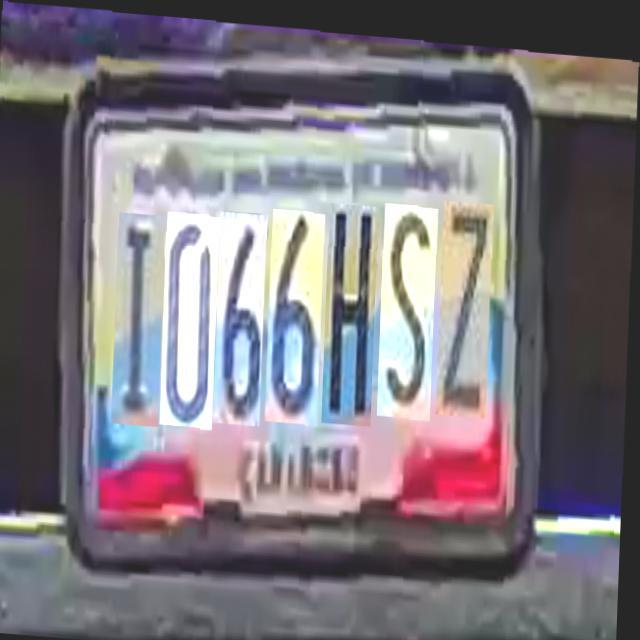0: (162, 208, 220, 424)
6: (268, 200, 326, 417), (215, 205, 268, 419)
H: (324, 192, 380, 416)
I: (114, 208, 166, 422)
S: (379, 192, 438, 408)
Z: (438, 187, 494, 404)
